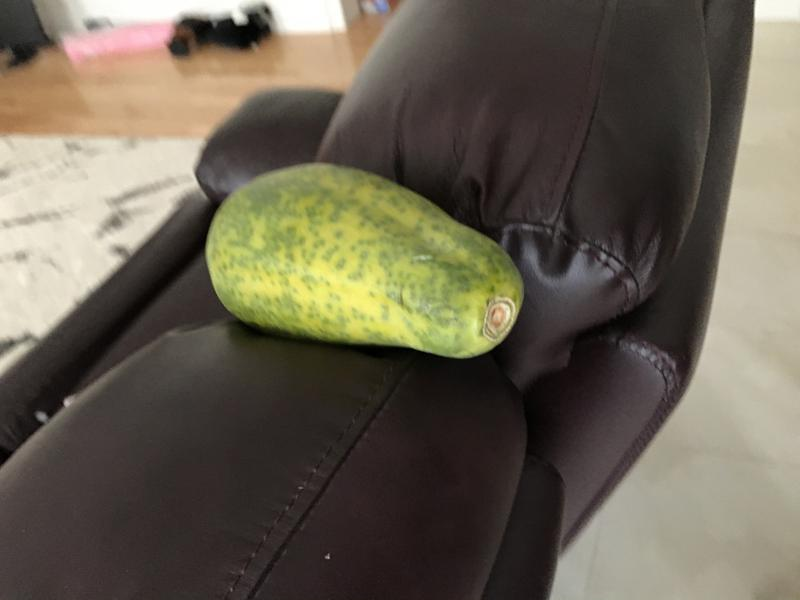papaya: (196, 153, 526, 369)
